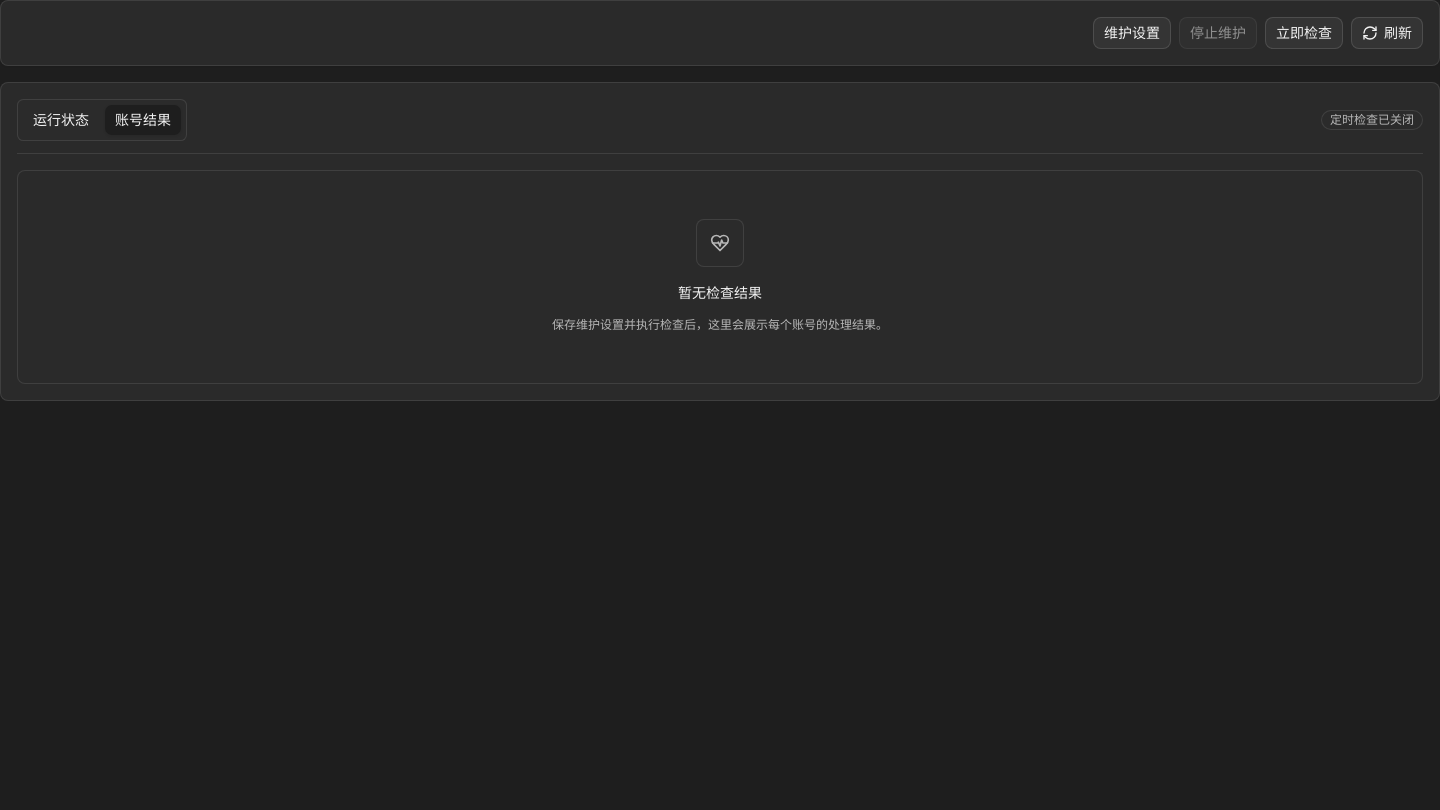
Scenario: 检查间隔小于一分钟时阻止预览并显示字段错误
The width and height of the screenshot is (1440, 810).
Click the button "维护设置" at (1132, 33), box [1093,17,1171,49]
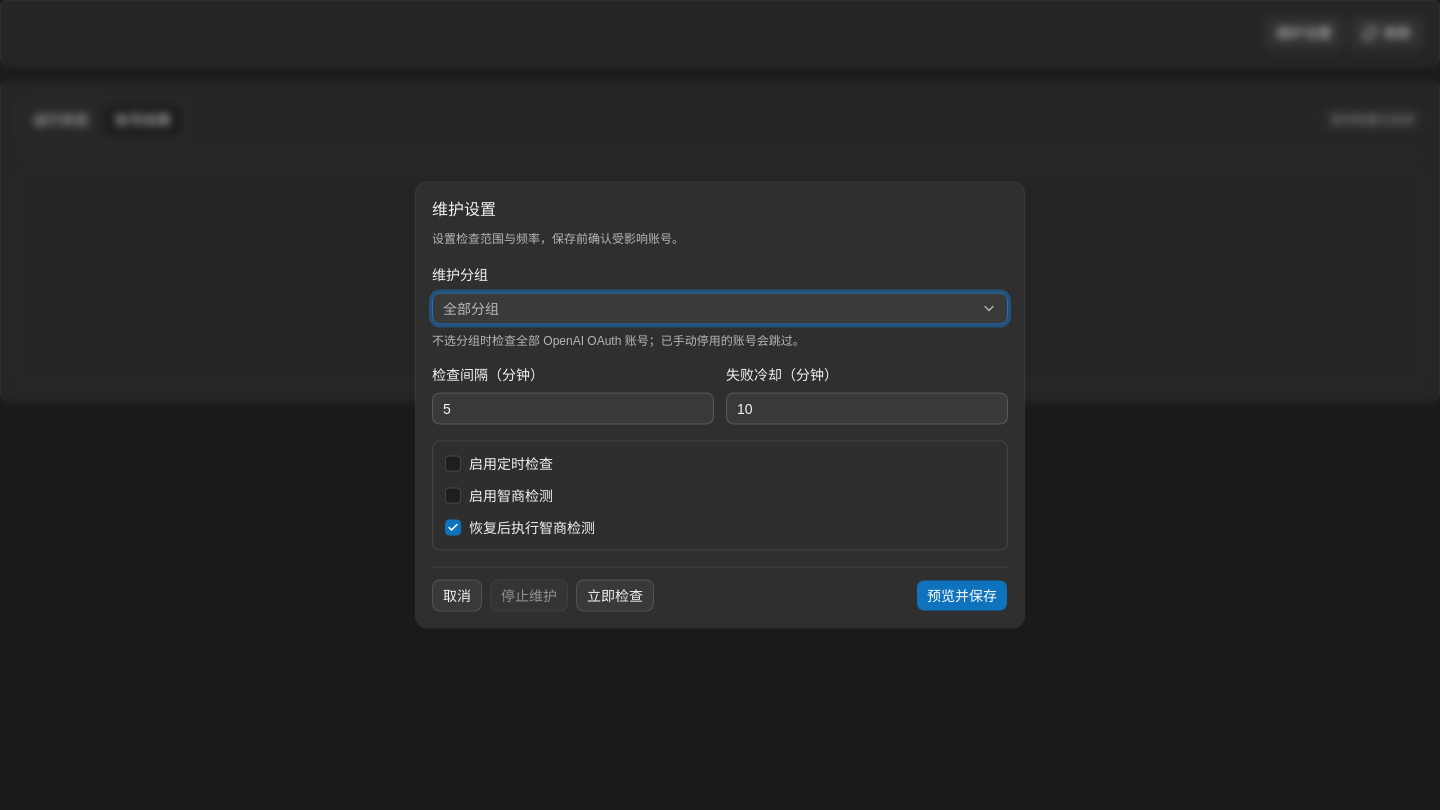
Replace the text in the number field labelled "检查间隔（分钟）" with "0" at (573, 408), box [432,392,714,424]
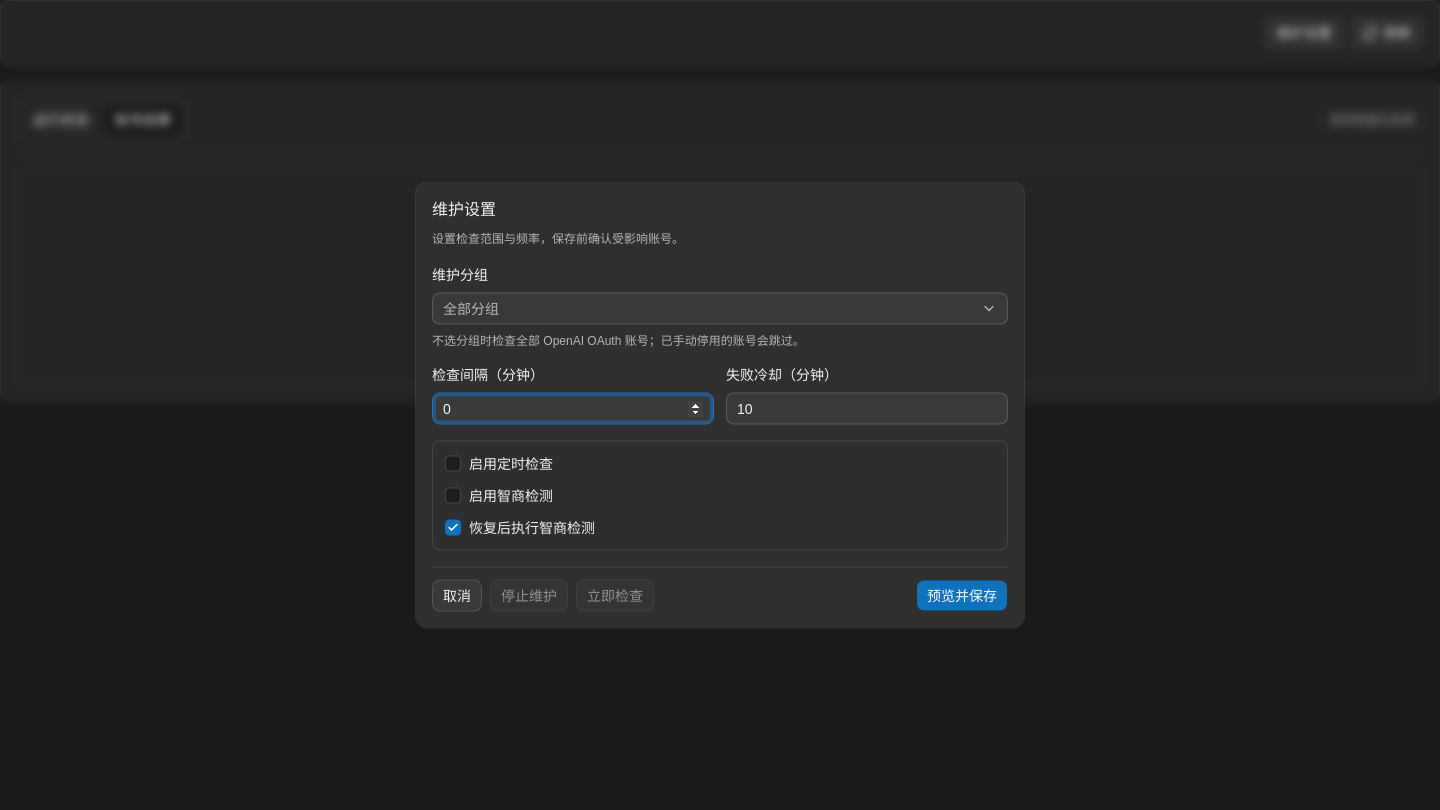
Click the button "预览并保存" at (962, 596), box [916,580,1008,612]
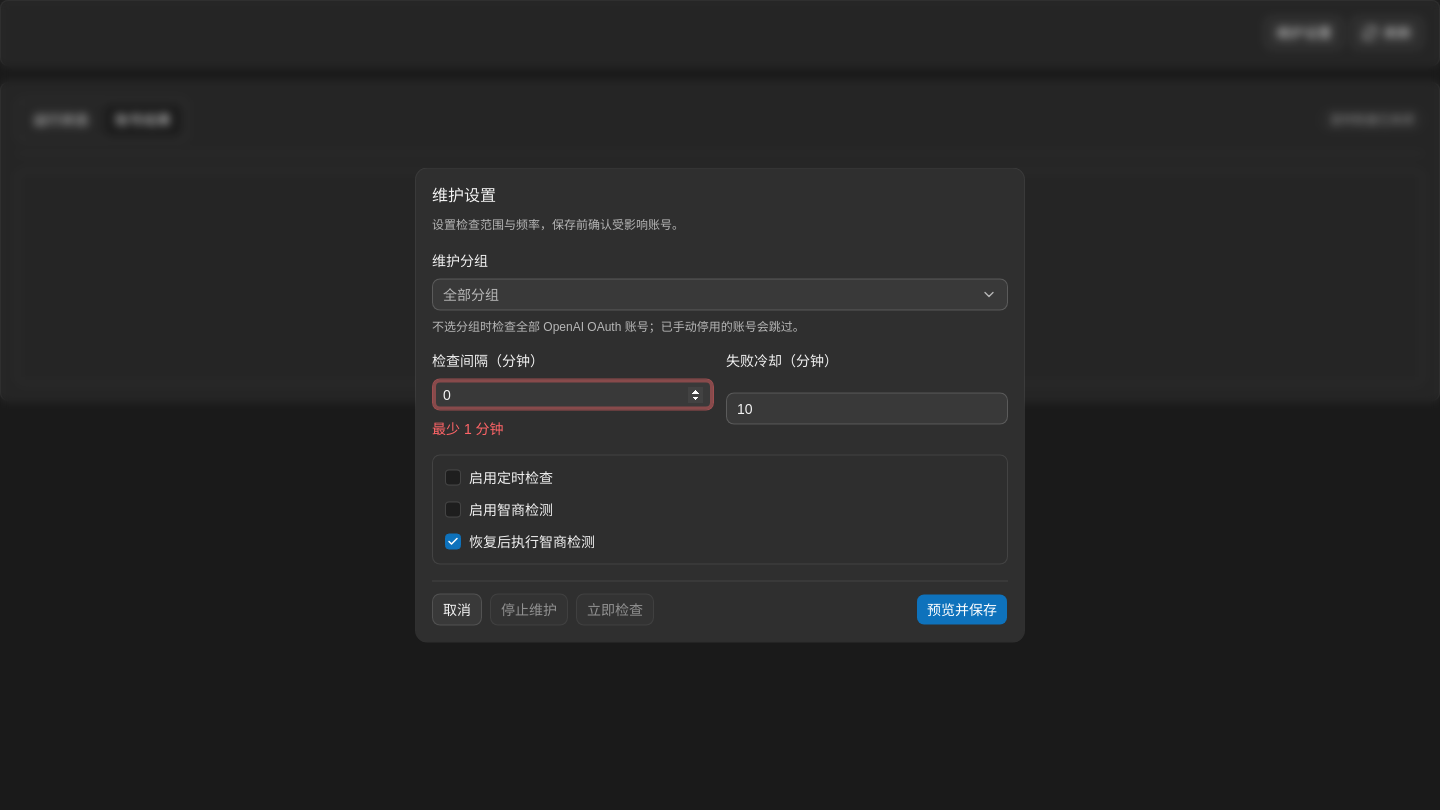
Expected: the message reads "最少 1 分钟", [432,420,504,436]
